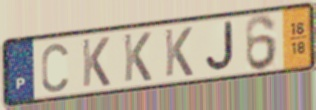6: (243, 13, 279, 73)
C: (39, 41, 70, 95)
J: (204, 19, 237, 74)
K: (163, 25, 195, 79), (80, 35, 112, 89), (122, 30, 154, 84)
